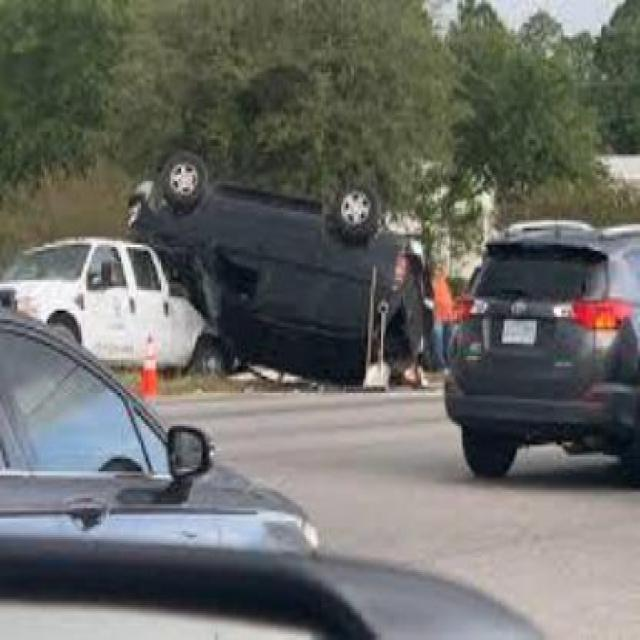accident: (0, 147, 437, 374)
